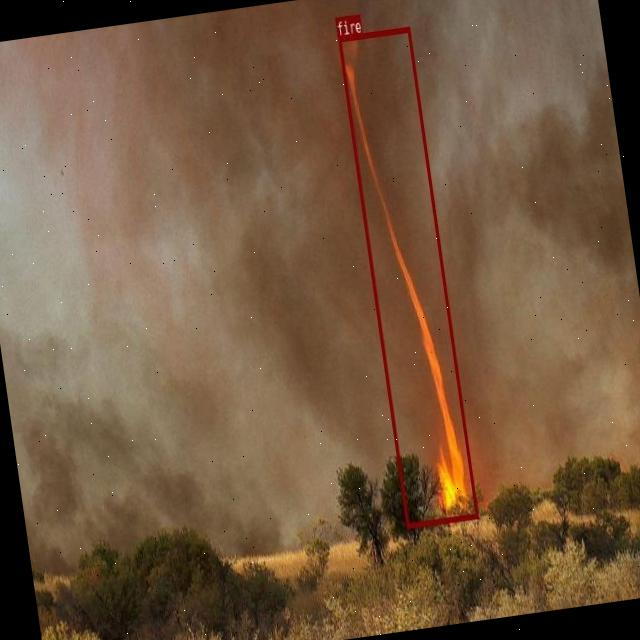fire: (337, 27, 478, 528)
